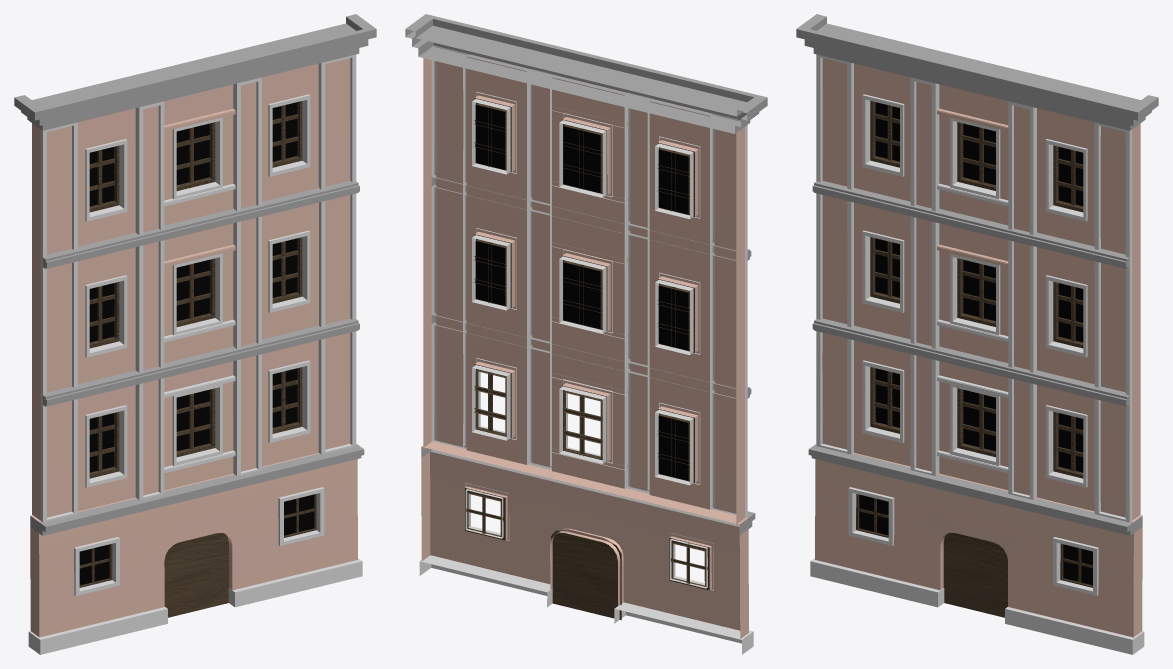
File: Building_01.fbx
The picture shows the model from 3 angles, left to right: view 1: azimuth 30°, elevation 25°; view 2: azimuth 150°, elevation 25°; view 3: azimuth 330°, elevation 25°; orthographic projection.
Visible parts, largest first — view 1: Building_01; view 2: Building_01; view 3: Building_01.
Part boxes in pixels (box(x1,y1,x2,y2)): Building_01: box(14, 14, 376, 654); Building_01: box(405, 14, 767, 654); Building_01: box(796, 14, 1158, 654).
Size of the model in its own units: 10.36 by 15.87 by 1.08.
